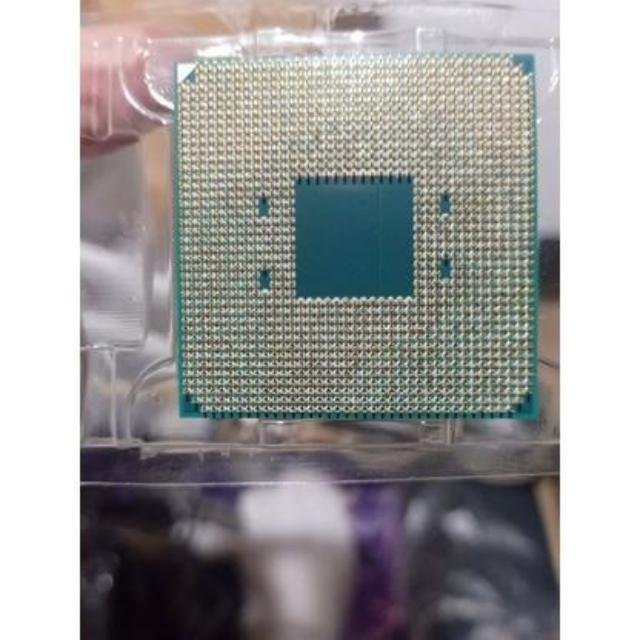CPU: (171, 57, 538, 420)
